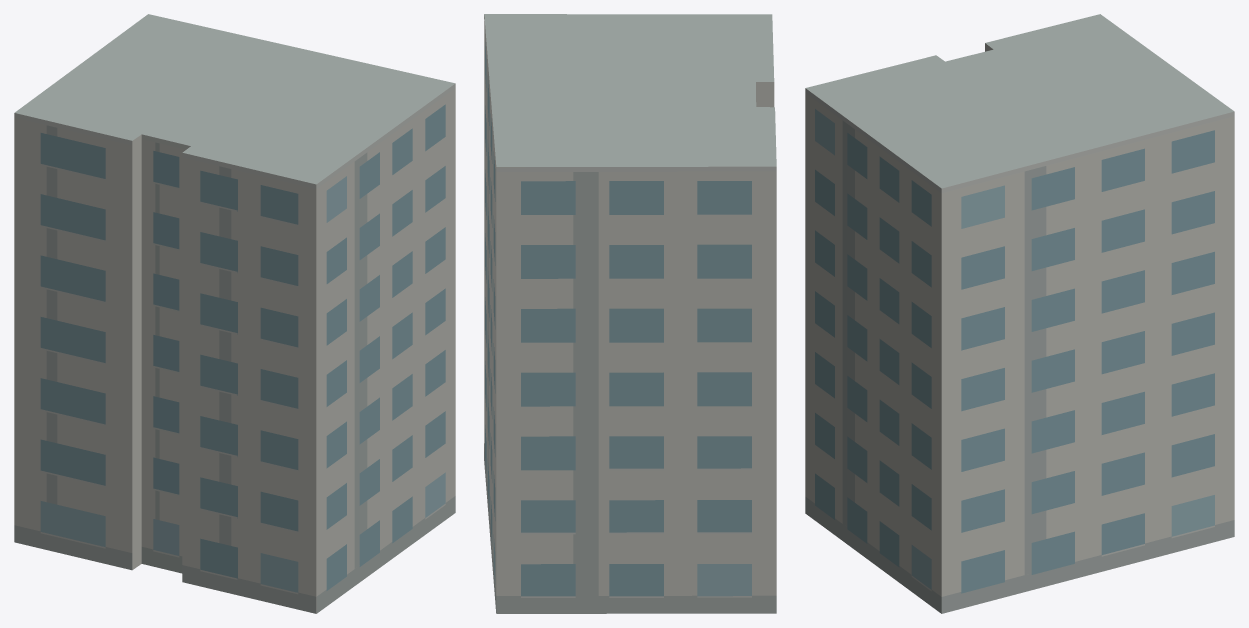
Rendered from survey-upis-32826907.glb.
3 views of the same model, side by side, from view 1: azimuth 30°, elevation 25°; view 2: azimuth 150°, elevation 25°; view 3: azimuth 270°, elevation 25° (orthographic). The views are drawn at different scales.
Visible parts, largest first — view 1: survey-upis-32826907.tmp; view 2: survey-upis-32826907.tmp; view 3: survey-upis-32826907.tmp.
Boxes of the visible parts, x1,y1,x2,y2 form: survey-upis-32826907.tmp: (14,14,455,613); survey-upis-32826907.tmp: (484,14,776,613); survey-upis-32826907.tmp: (805,14,1234,613).
Bounding box in the file's own units: 19.29 × 21.9 × 20.04.
